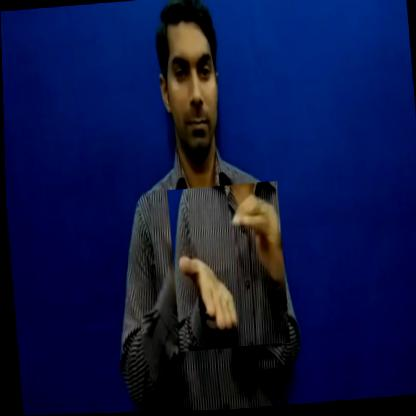ExcuseMe: (165, 182, 288, 353)
